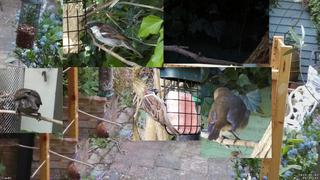robin: (206, 87, 252, 146)
sparrow: (83, 20, 144, 58), (142, 87, 181, 137)
starling: (14, 88, 42, 122)
